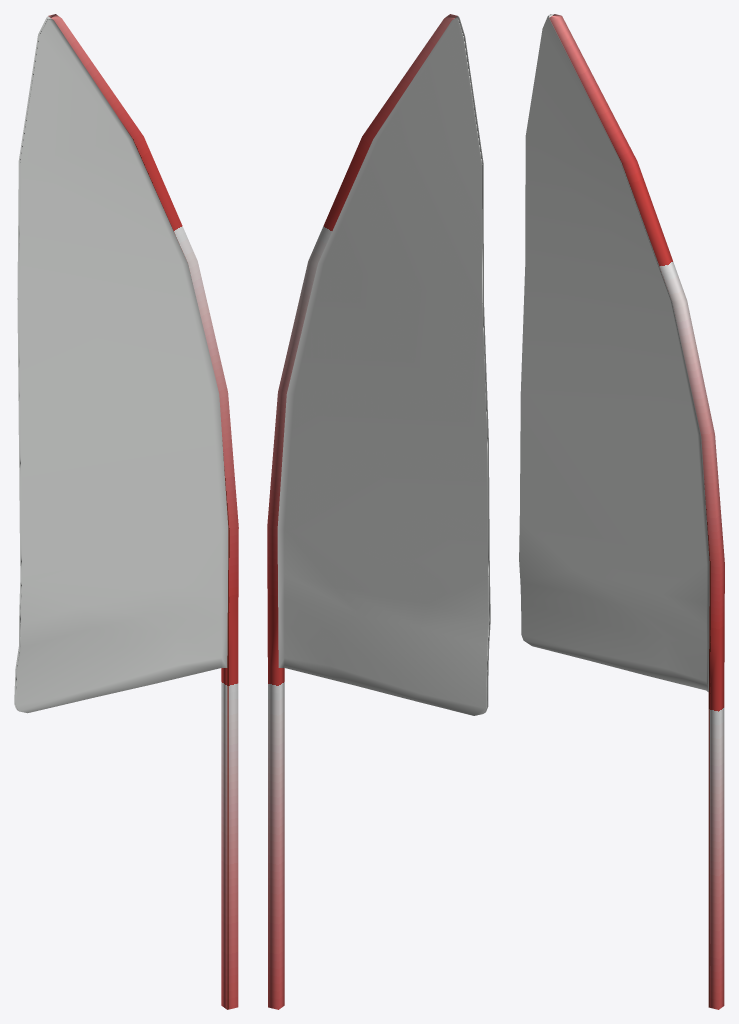
The model's file is P_NatureFlag.glb.
3 renders of one model, left to right at view 1: azimuth 30°, elevation 25°; view 2: azimuth 150°, elevation 25°; view 3: azimuth 330°, elevation 25°, orthographic. The views are drawn at different scales.
Parts seen in each view (by area): view 1: P_NatureFlag; view 2: P_NatureFlag; view 3: P_NatureFlag.
Part boxes in pixels (x1,y1,x2,y2): P_NatureFlag: [14, 14, 238, 1009]; P_NatureFlag: [267, 14, 490, 1009]; P_NatureFlag: [519, 14, 724, 1009].
Size of the model in its own units: 0.5899 by 2.66 by 0.0335.
1 material, 1 textured.
